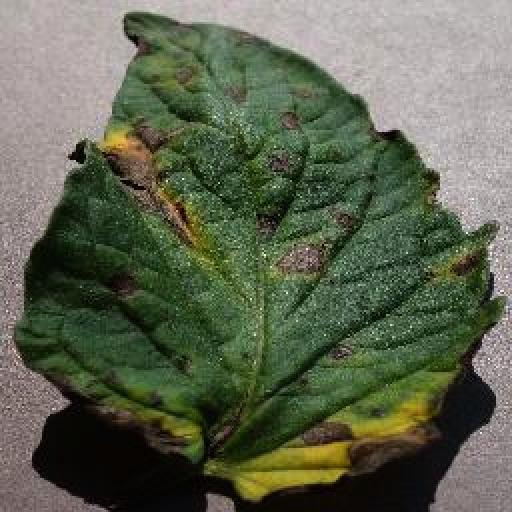disease_tomato: (15, 8, 499, 502)
